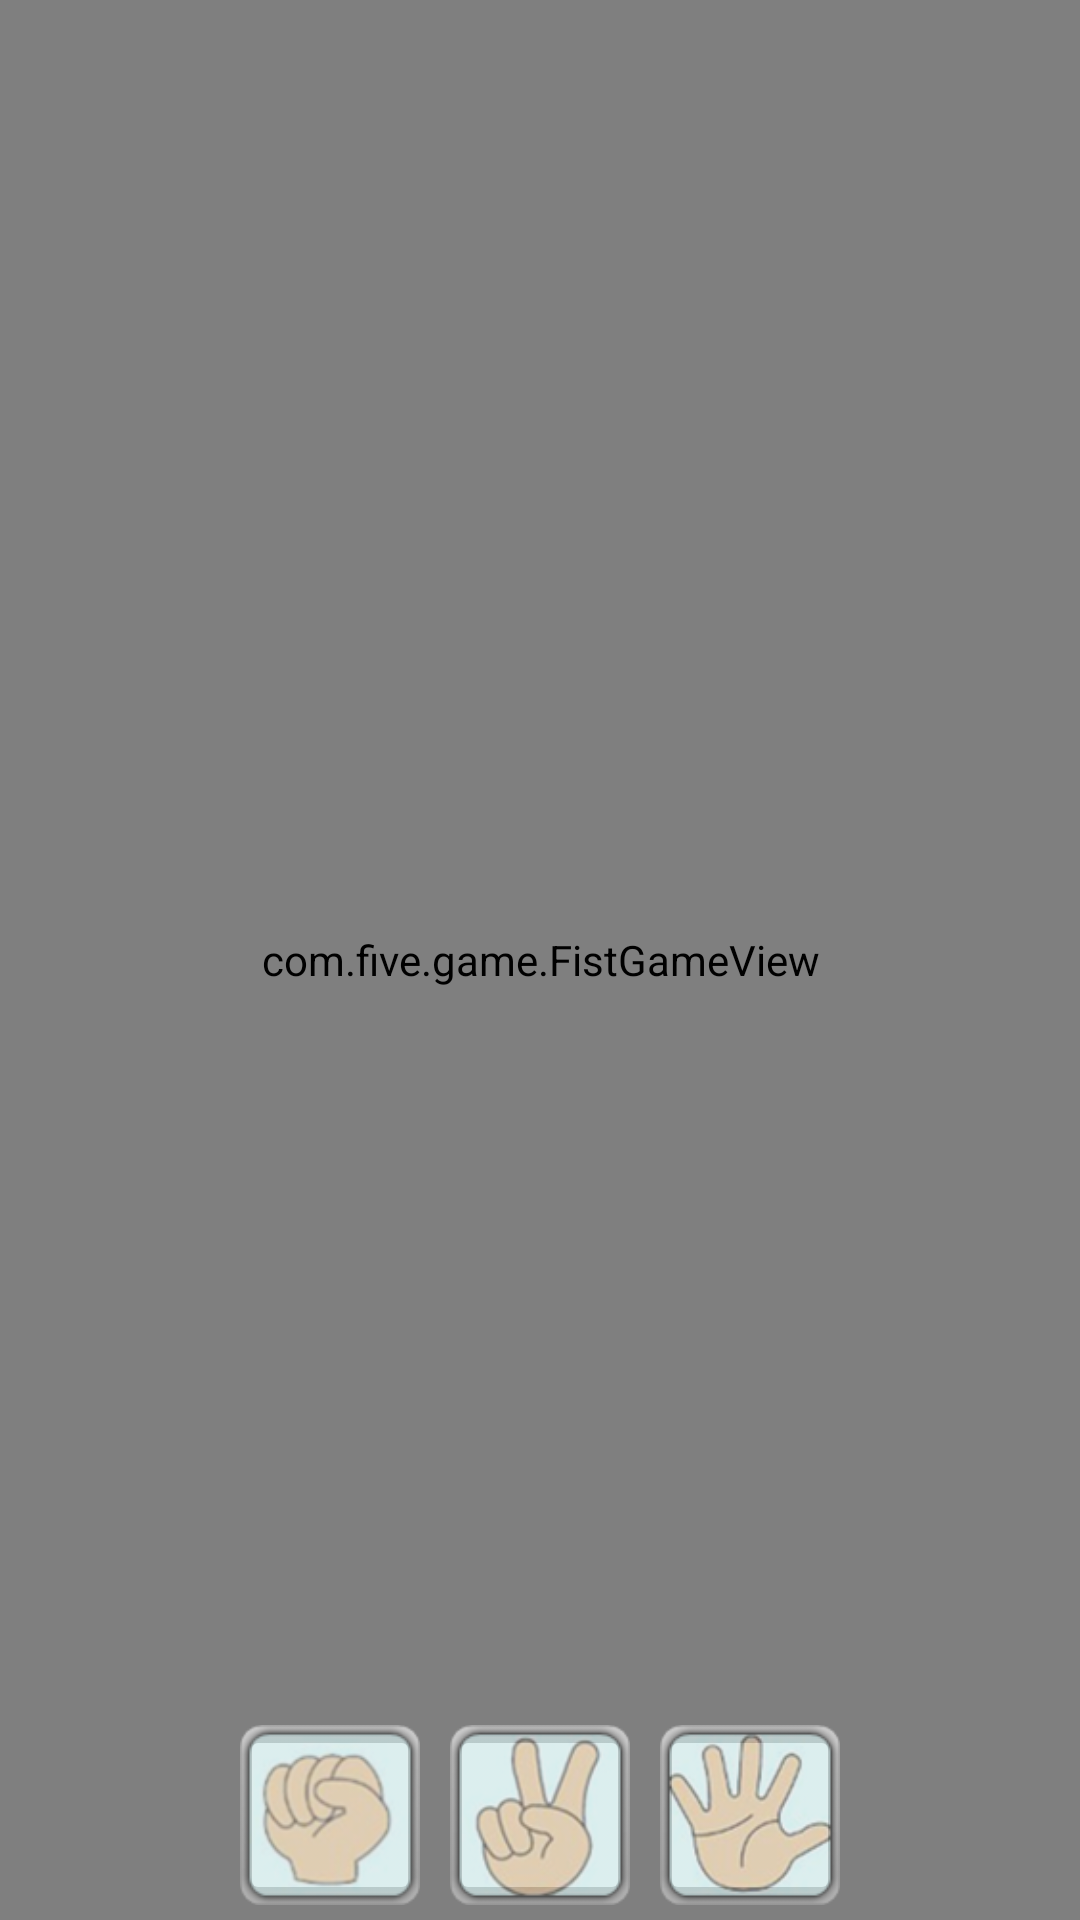

Icon bounding boxes for this 1080×1920 phone screenshot, format box(x1, y1, x2, y2):
cloth: box(660, 1725, 840, 1904)
knife: box(450, 1725, 630, 1904)
rock: box(240, 1725, 420, 1904)
